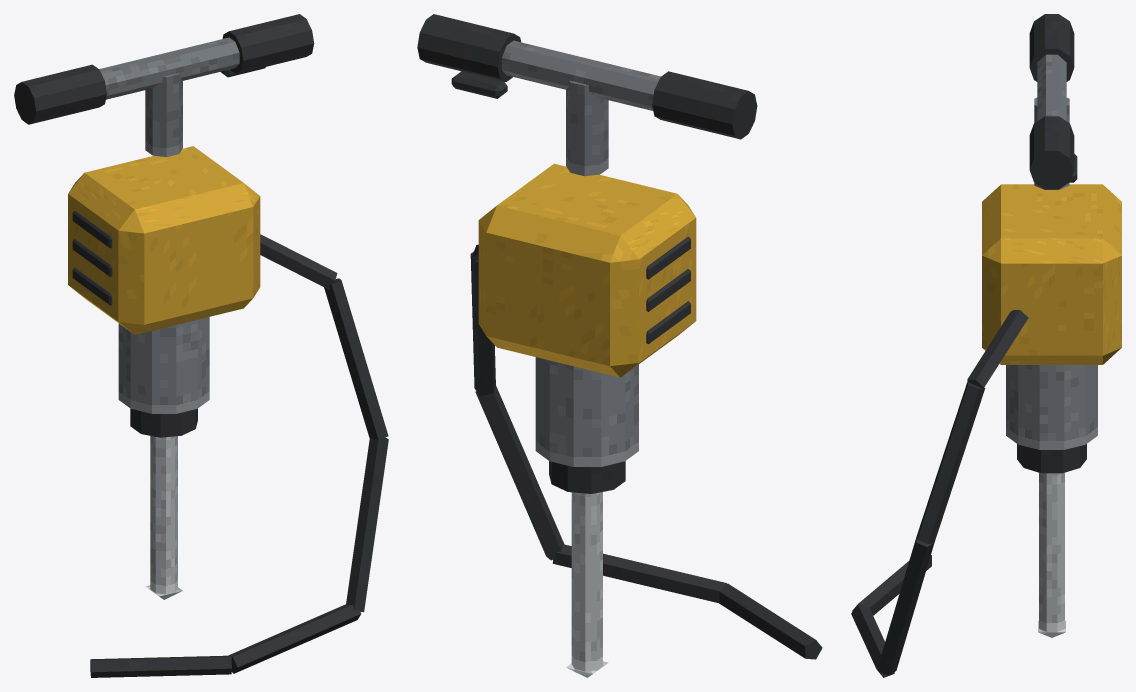
File: elec_jackhammer.glb
The picture shows the model from 3 angles, left to right: view 1: azimuth 30°, elevation 25°; view 2: azimuth 150°, elevation 25°; view 3: azimuth 270°, elevation 25°; orthographic projection. The views are drawn at different scales.
Parts seen in each view (by area): view 1: block_motor housing, block_percussion barrel, block_rubber grip (×2), block_chisel bit, block_T handle bar, block_power cord 2, block_power cord 1, block_handle stem, block_power cord 4, block_power cord 3, block_power cord 0, block_tool retainer; view 2: block_motor housing, block_percussion barrel, block_rubber grip (×2), block_chisel bit, block_T handle bar, block_power cord 2, block_handle stem, block_power cord 3, block_power cord 4, block_cooling vent (×3), block_tool retainer, block_power cord 1 (+1 smaller); view 3: block_motor housing, block_percussion barrel, block_rubber grip (×2), block_chisel bit, block_power cord 1, block_power cord 2, block_T handle bar, block_power cord 0, block_tool retainer, block_power cord 3, block_power cord 4.
Boxes of the visible parts, bbox=[...] form: block_motor housing: bbox=[68, 146, 260, 334]; block_percussion barrel: bbox=[118, 317, 209, 413]; block_rubber grip (×2): bbox=[14, 14, 314, 124]; block_chisel bit: bbox=[150, 436, 177, 594]; block_T handle bar: bbox=[99, 37, 239, 99]; block_power cord 2: bbox=[346, 437, 388, 612]; block_power cord 1: bbox=[324, 278, 388, 439]; block_handle stem: bbox=[145, 72, 182, 156]; block_power cord 4: bbox=[90, 655, 231, 677]; block_power cord 3: bbox=[228, 604, 361, 673]; block_power cord 0: bbox=[260, 234, 337, 289]; block_tool retainer: bbox=[130, 408, 197, 437]; block_motor housing: bbox=[478, 163, 696, 377]; block_percussion barrel: bbox=[535, 357, 638, 466]; block_rubber grip (×2): bbox=[417, 14, 757, 139]; block_chisel bit: bbox=[571, 492, 602, 671]; block_T handle bar: bbox=[502, 40, 660, 110]; block_power cord 2: bbox=[475, 386, 563, 560]; block_handle stem: bbox=[566, 80, 608, 176]; block_power cord 3: bbox=[552, 544, 727, 603]; block_power cord 4: bbox=[719, 583, 822, 659]; block_cooling vent (×3): bbox=[646, 236, 690, 344]; block_tool retainer: bbox=[549, 461, 625, 493]; block_power cord 1: bbox=[470, 251, 495, 396]; block_motor housing: bbox=[982, 184, 1121, 364]; block_percussion barrel: bbox=[1006, 365, 1097, 449]; block_rubber grip (×2): bbox=[1029, 14, 1074, 189]; block_chisel bit: bbox=[1039, 472, 1064, 631]; block_power cord 1: bbox=[917, 381, 985, 543]; block_power cord 2: bbox=[878, 536, 934, 675]; block_T handle bar: bbox=[1037, 54, 1066, 120]; block_power cord 0: bbox=[967, 310, 1028, 388]; block_tool retainer: bbox=[1017, 444, 1086, 473]; block_power cord 3: bbox=[851, 604, 894, 677]; block_power cord 4: bbox=[852, 555, 931, 615].
Bounding box in the file's own units: 0.4701 × 0.82 × 0.3625.
2 materials, 2 textured.
